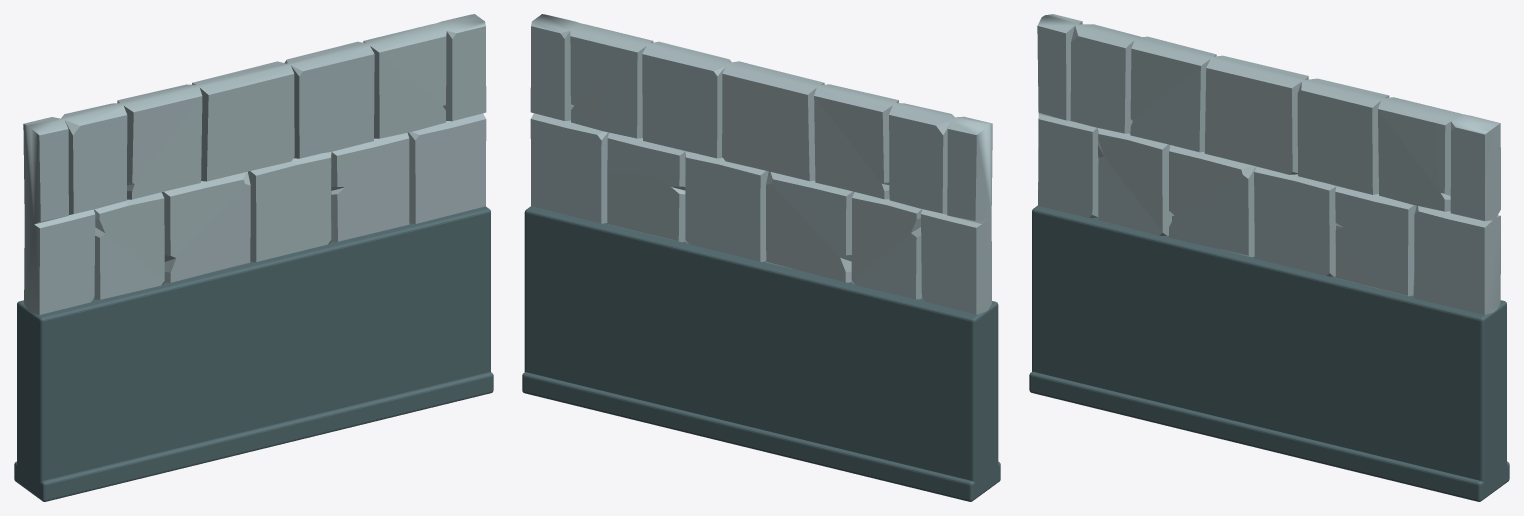
Rendered from wall stone up.fbx.
3 views of the same model, side by side, from view 1: azimuth 30°, elevation 25°; view 2: azimuth 150°, elevation 25°; view 3: azimuth 330°, elevation 25° (orthographic).
Parts seen in each view (by area): view 1: wall stone up; view 2: wall stone up; view 3: wall stone up.
Boxes of the visible parts, <box> form: wall stone up: <box>14,14,493,501</box>; wall stone up: <box>522,14,1000,501</box>; wall stone up: <box>1029,14,1509,501</box>.
Size of the model in its own units: 400 by 310 by 46.25.
